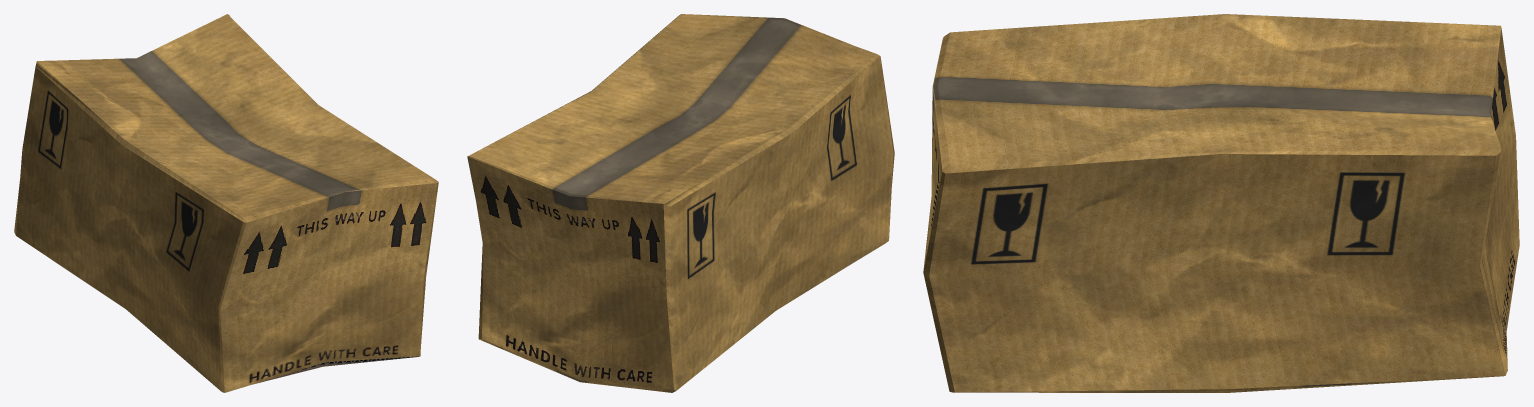
The model's file is CardboardBoxA_Dirty.fbx.
3 views of the same model, side by side, from view 1: azimuth 30°, elevation 25°; view 2: azimuth 150°, elevation 25°; view 3: azimuth 270°, elevation 25° (orthographic). The views are drawn at different scales.
Parts seen in each view (by area): view 1: CardboardBoxA_Dirty; view 2: CardboardBoxA_Dirty; view 3: CardboardBoxA_Dirty.
Boxes of the visible parts, box(x1,y1,x2,y2) form: CardboardBoxA_Dirty: box(14, 14, 438, 392); CardboardBoxA_Dirty: box(467, 14, 894, 392); CardboardBoxA_Dirty: box(923, 14, 1519, 392).
Size of the model in its own units: 27.41 by 23.75 by 49.43.
